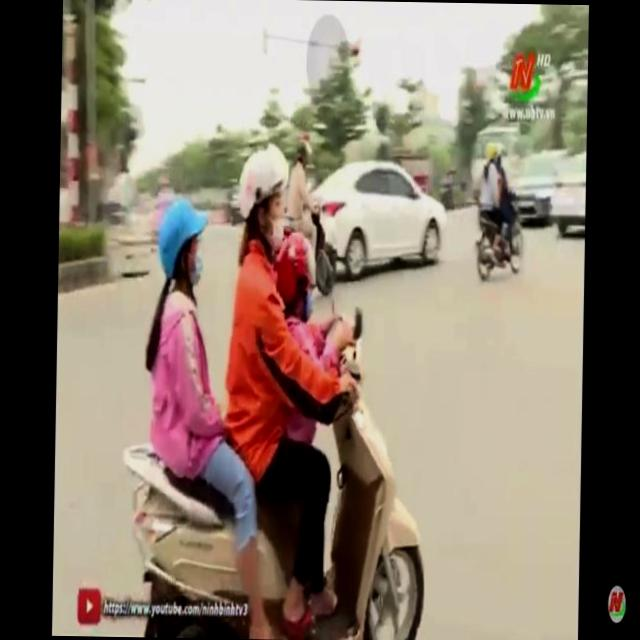motorcycle: (114, 298, 440, 640)
person: (214, 139, 340, 548), (139, 192, 236, 511), (261, 232, 347, 540)
rider_region: (106, 145, 434, 640)
